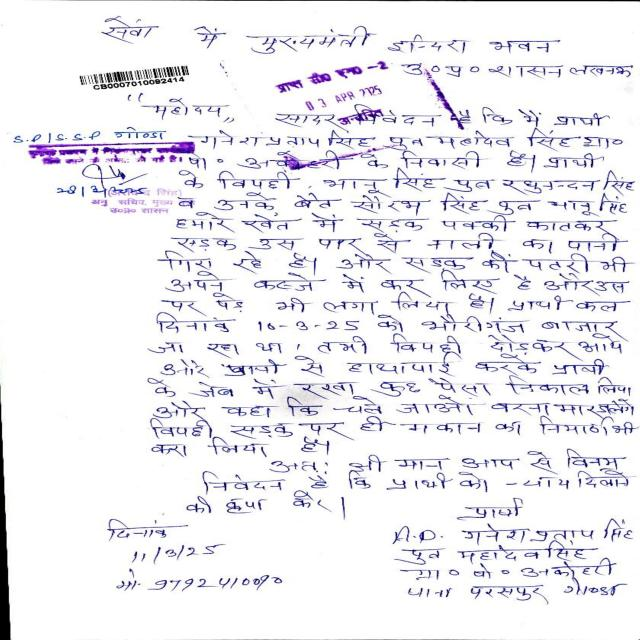antritgovtstamp: (268, 59, 411, 127)
barcode: (78, 61, 197, 92)
pinkstamp: (1, 135, 206, 162)
signnamestamp: (46, 162, 184, 223)
